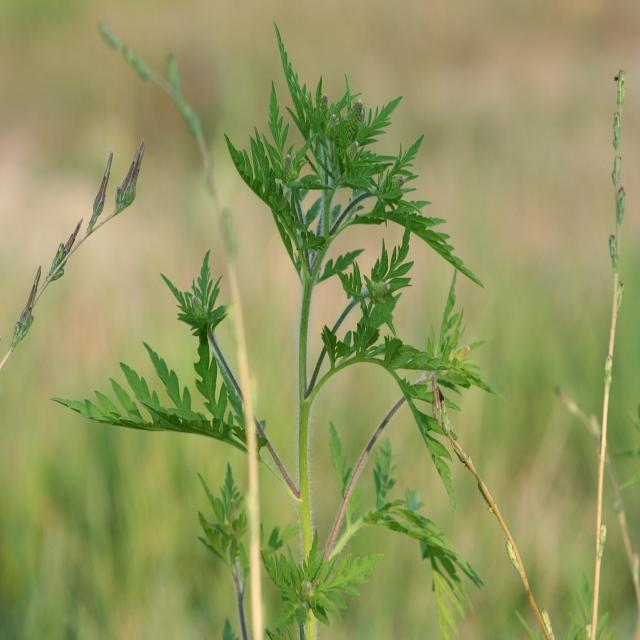ambrosia: (240, 52, 437, 368)
